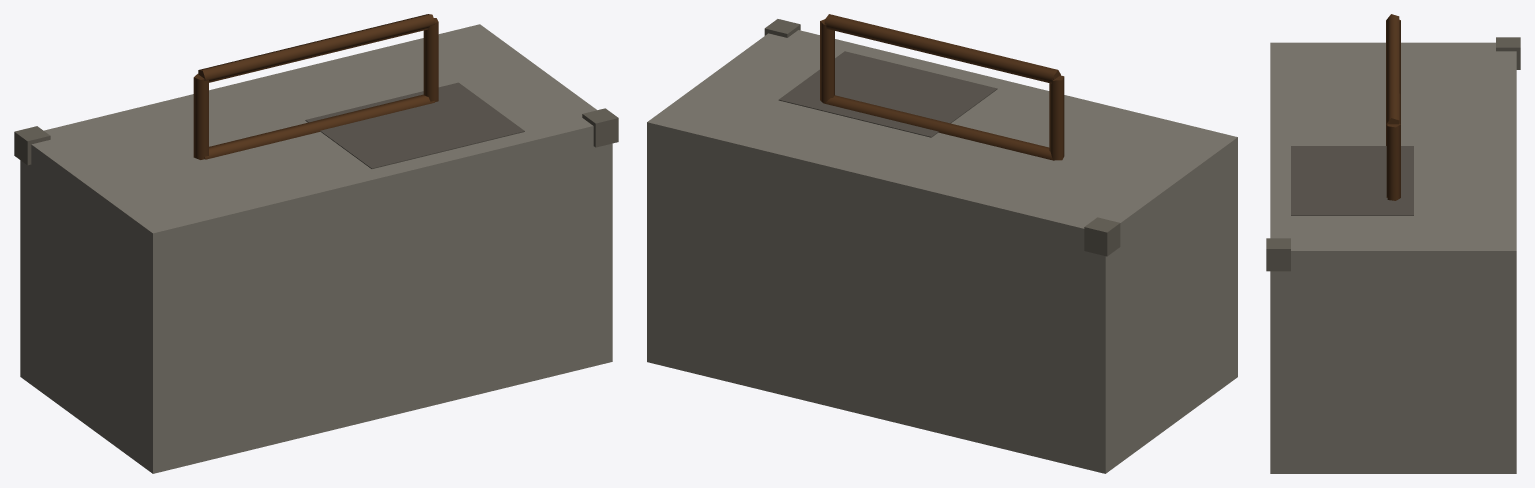
File: concrete_block.obj
The picture shows the model from 3 angles, left to right: view 1: azimuth 30°, elevation 25°; view 2: azimuth 150°, elevation 25°; view 3: azimuth 270°, elevation 25°; orthographic projection. The views are drawn at different scales.
Visible parts, largest first — view 1: box_0, box_3, cyl_7, cyl_4, cyl_5, cyl_6, box_1, box_2; view 2: box_0, box_3, cyl_7, cyl_4, cyl_5, box_2, cyl_6; view 3: box_0, box_3, cyl_7, cyl_6, box_1, box_2.
Boxes of the visible parts, <box> form: box_0: <box>20,24,612,473</box>; box_3: <box>305,82,524,168</box>; cyl_7: <box>198,14,435,82</box>; cyl_4: <box>204,94,434,159</box>; cyl_5: <box>193,74,208,159</box>; cyl_6: <box>423,18,438,101</box>; box_1: <box>582,108,618,147</box>; box_2: <box>14,126,50,165</box>; box_0: <box>647,30,1237,473</box>; box_3: <box>778,51,997,137</box>; cyl_7: <box>824,14,1060,83</box>; cyl_4: <box>825,95,1052,160</box>; cyl_5: <box>1049,75,1064,160</box>; box_2: <box>1084,217,1120,256</box>; cyl_6: <box>820,19,834,103</box>; box_0: <box>1270,42,1516,473</box>; box_3: <box>1291,146,1413,215</box>; cyl_7: <box>1386,14,1399,125</box>; cyl_6: <box>1387,123,1400,200</box>; box_1: <box>1266,238,1290,271</box>; box_2: <box>1496,37,1520,69</box>.
Bounding box in the file's own units: 1.22 × 0.8171 × 0.62.
